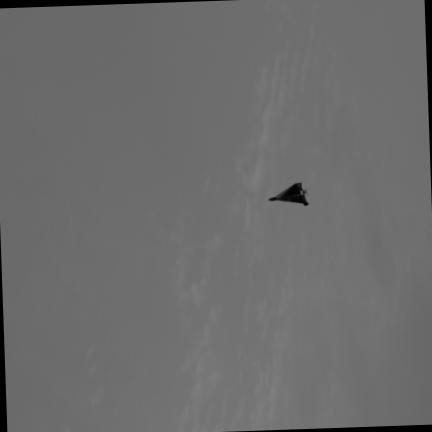Shahed: (269, 182, 308, 205)
